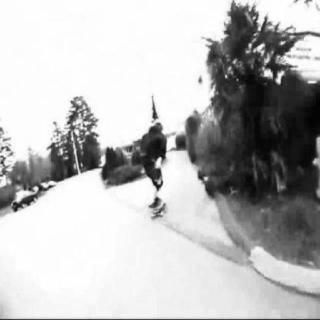other: (9, 187, 43, 214)
